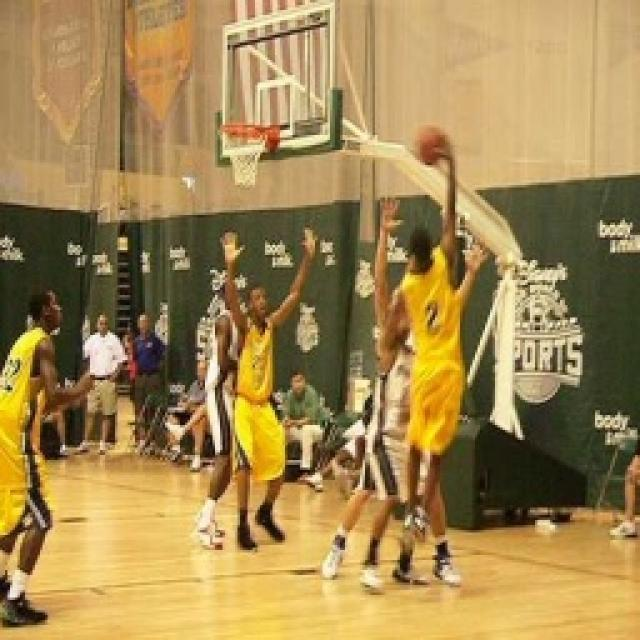rim: (408, 115, 452, 165)
